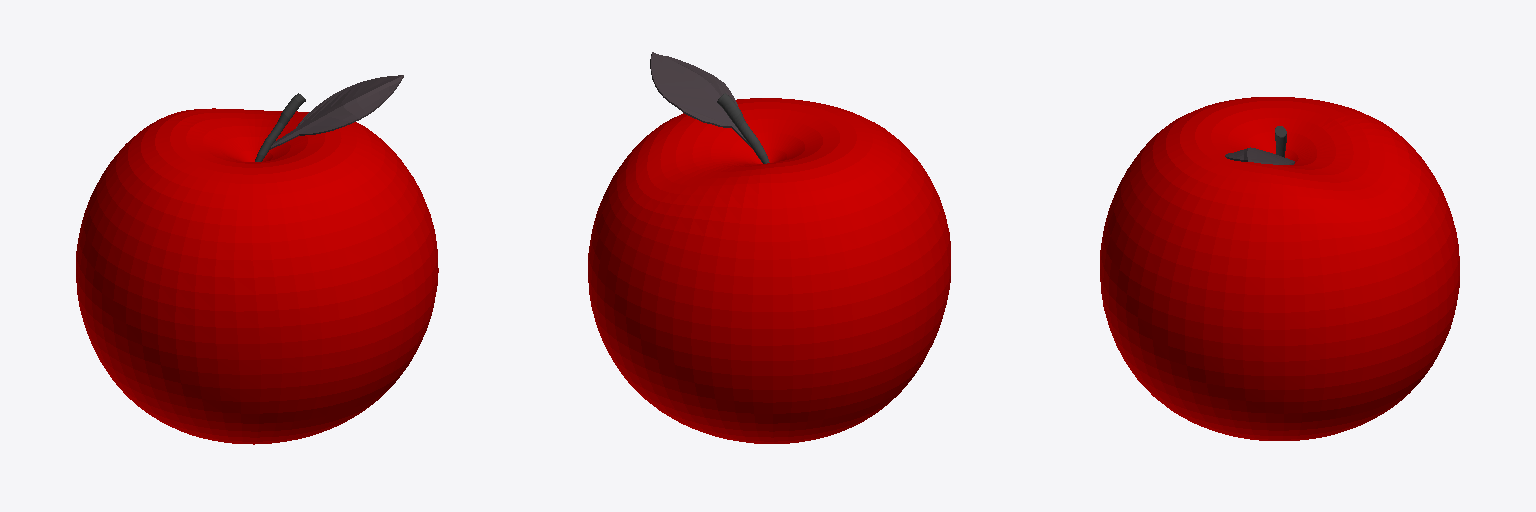
The model's file is pompom.obj.
3 renders of one model, left to right at view 1: azimuth 30°, elevation 25°; view 2: azimuth 150°, elevation 25°; view 3: azimuth 270°, elevation 25°, orthographic.
Visible parts, largest first — view 1: Sphere_Sphere.001, Circle_Circle.001; view 2: Sphere_Sphere.001, Circle_Circle.001; view 3: Sphere_Sphere.001, Circle_Circle.001.
Part boxes in pixels (left/top/right/bottom): Sphere_Sphere.001: left=76, top=93, right=438, bottom=444; Circle_Circle.001: left=270, top=75, right=403, bottom=149; Sphere_Sphere.001: left=588, top=93, right=950, bottom=443; Circle_Circle.001: left=650, top=52, right=751, bottom=147; Sphere_Sphere.001: left=1100, top=97, right=1459, bottom=440; Circle_Circle.001: left=1225, top=147, right=1294, bottom=164.
Size of the model in its own units: 1.17 by 1.15 by 1.17.